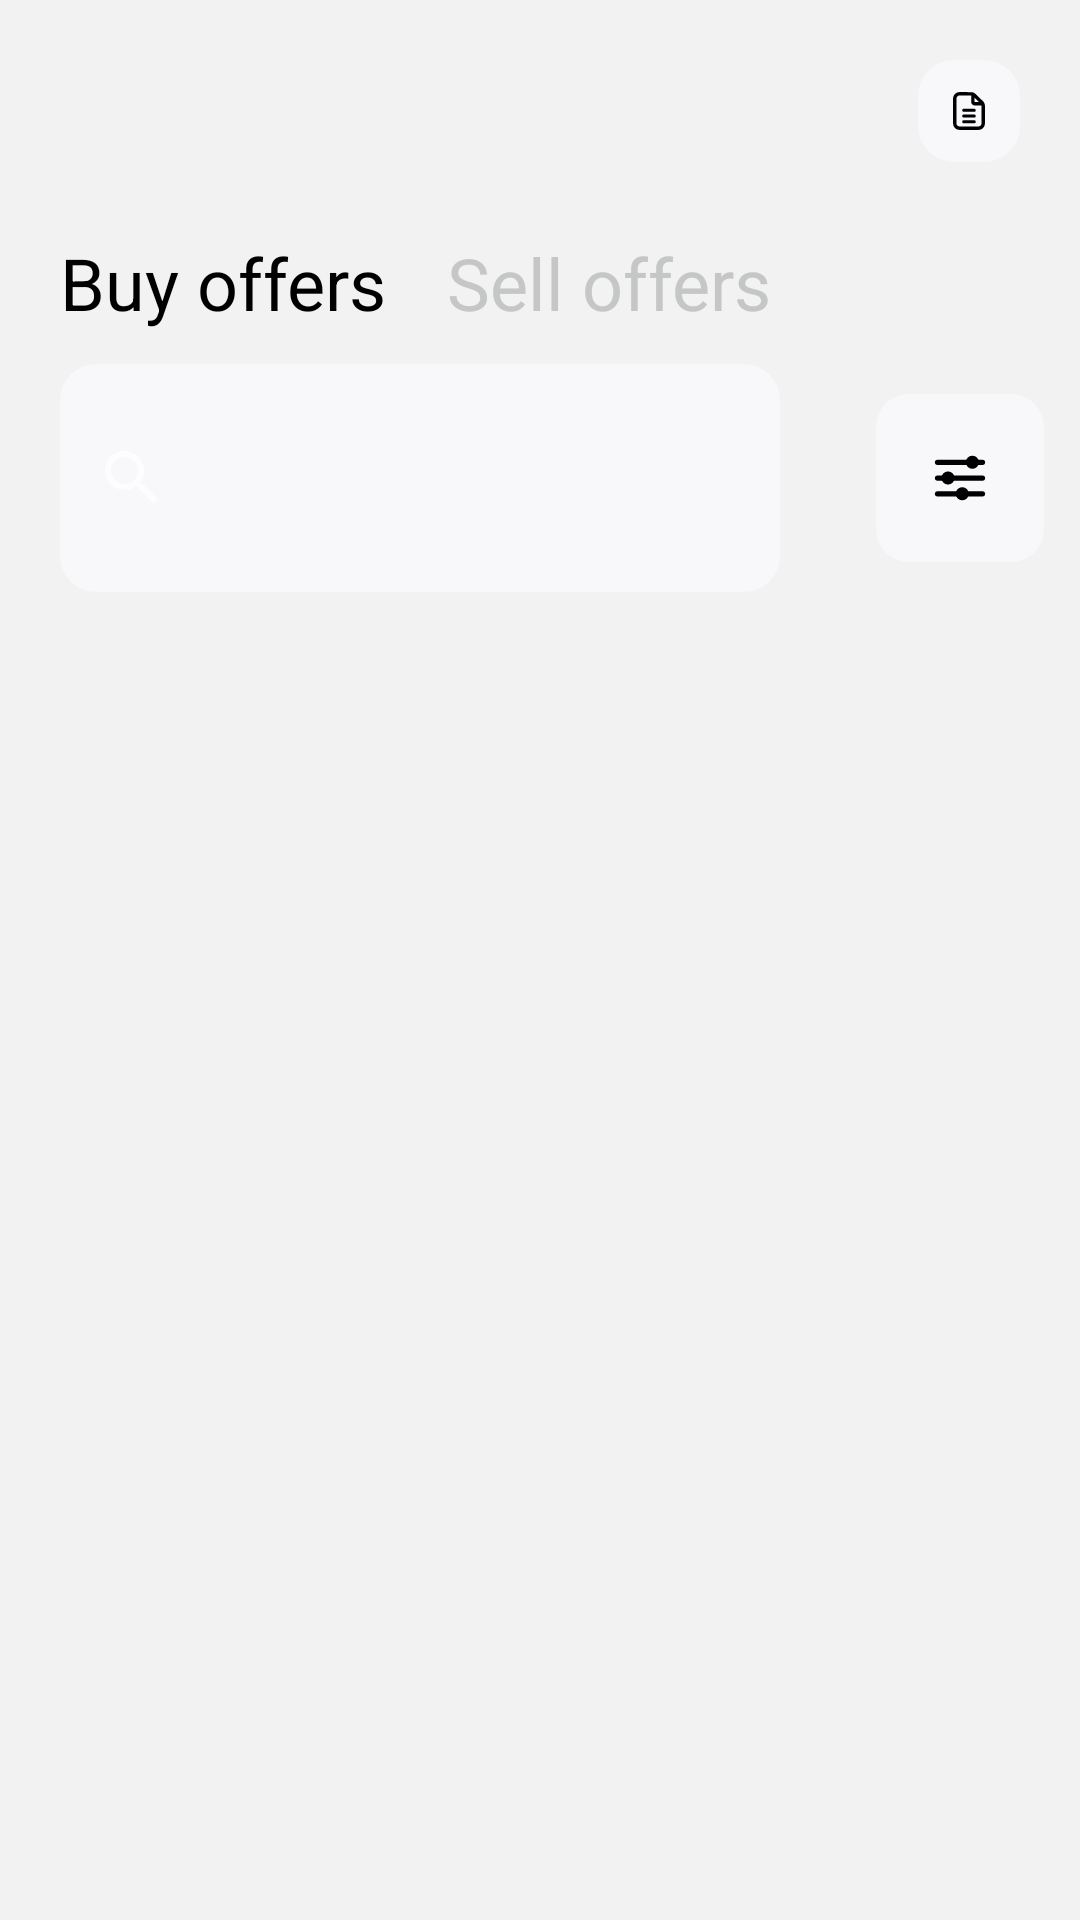

Where icons sit on this 1080x1920 app screen, as (x1, y1, x2, y2):
filter: (934, 455, 986, 501)
list: (953, 92, 985, 130)
